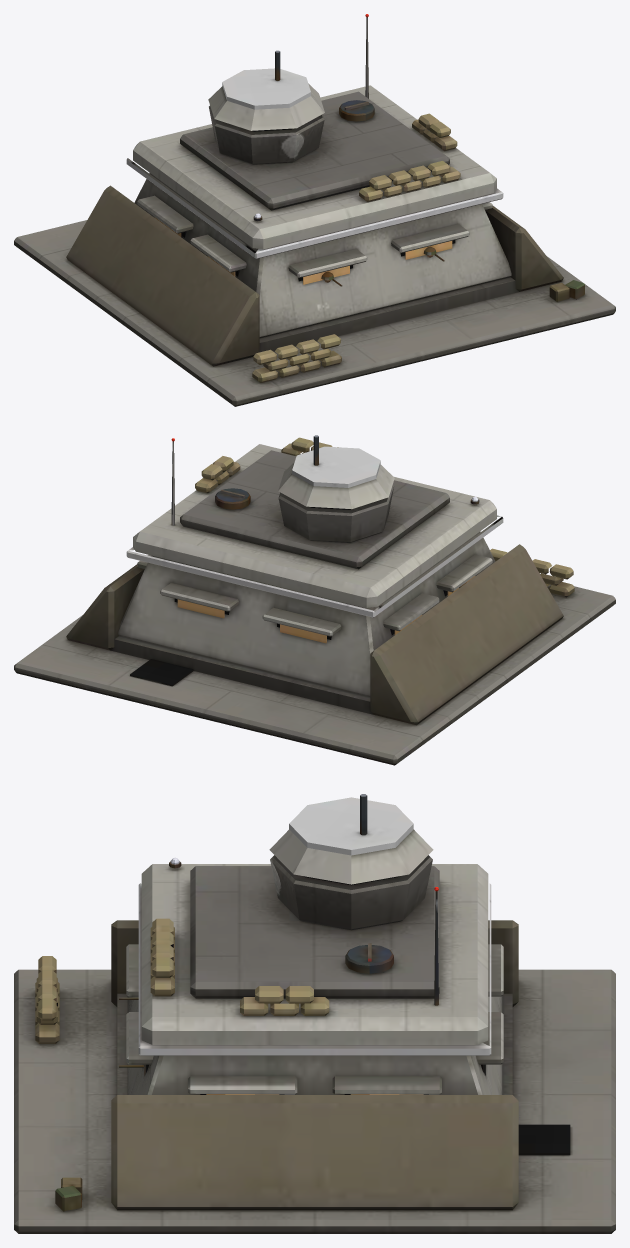
The model's file is bnkr.allies.glb.
The picture shows the model from 3 angles, top to bottom: view 1: azimuth 30°, elevation 25°; view 2: azimuth 150°, elevation 25°; view 3: azimuth 270°, elevation 25°; orthographic projection. The views are drawn at different scales.
Parts seen in each view (by area): view 1: root_mesh; view 2: root_mesh; view 3: root_mesh.
Part boxes in pixels (bbox=[...]): root_mesh: bbox=[14, 14, 615, 406]; root_mesh: bbox=[14, 435, 615, 765]; root_mesh: bbox=[14, 794, 615, 1233].
Bounding box in the file's own units: 1.98 × 1.09 × 1.98.
1 material, 1 textured.
